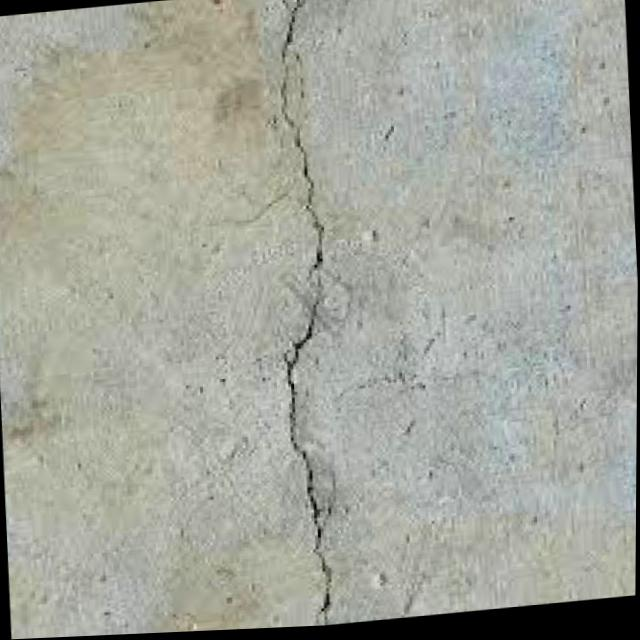Crack: (243, 0, 369, 631)
